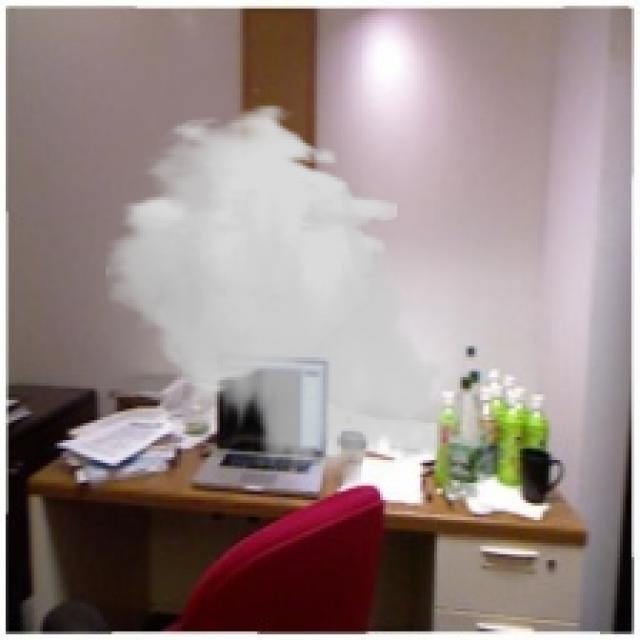smoke: (106, 103, 466, 483)
